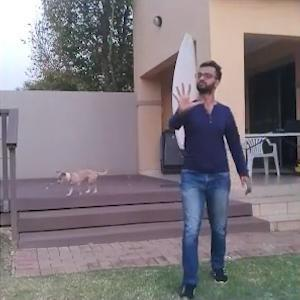follow_hand: (167, 77, 206, 117)
